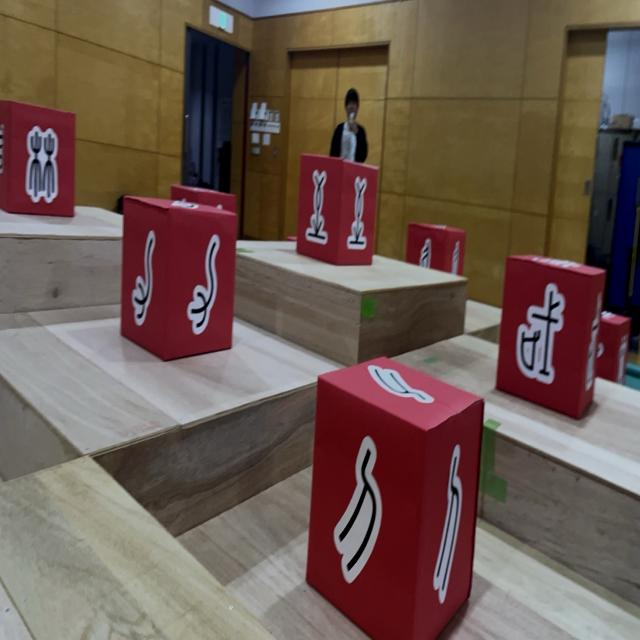10: (333, 435, 382, 583), (433, 444, 464, 606), (367, 363, 434, 405)
11: (418, 238, 432, 268), (451, 241, 460, 277)
13: (187, 234, 221, 336), (132, 228, 157, 328)
2: (24, 123, 60, 205)
5: (516, 281, 566, 387)
7: (306, 168, 330, 246), (347, 176, 367, 252)
fighter: (305, 354, 485, 640), (120, 194, 237, 362), (495, 253, 607, 420), (296, 153, 378, 267), (0, 100, 76, 218), (405, 222, 466, 277), (596, 308, 632, 386), (170, 186, 237, 214)
